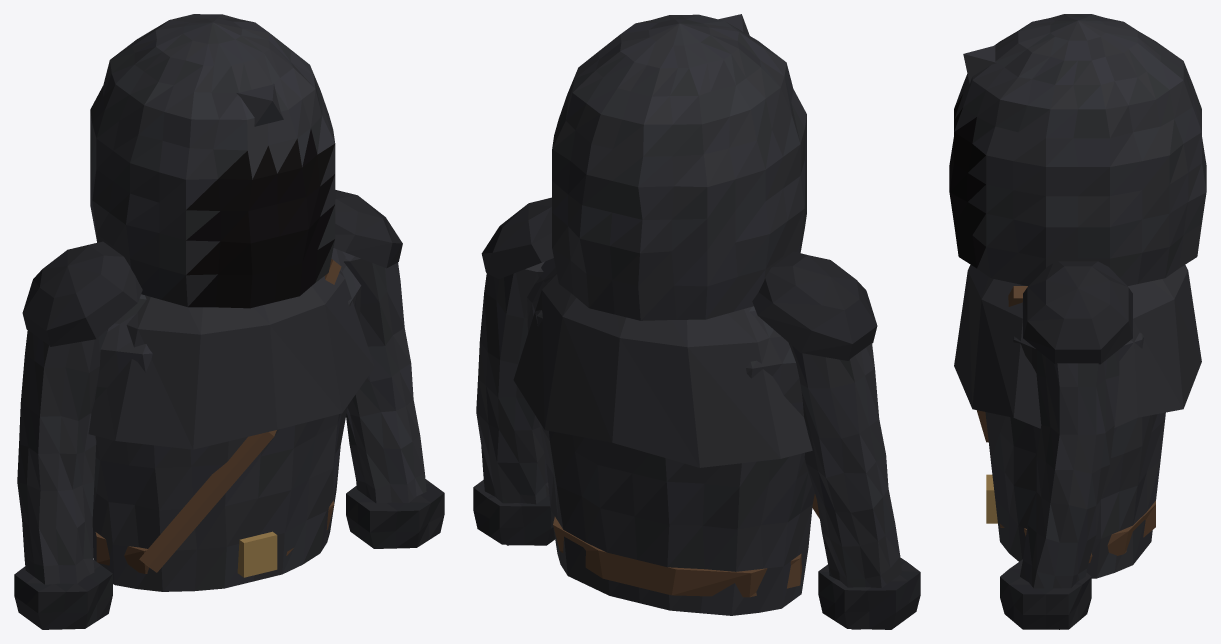
Rendered from B07_4_nightstalker_ranger_tunic.obj.
The picture shows the model from 3 angles, left to right: view 1: azimuth 30°, elevation 25°; view 2: azimuth 150°, elevation 25°; view 3: azimuth 270°, elevation 25°; orthographic projection. The views are drawn at different scales.
Visible parts, largest first — view 1: B07_4_nightstalker_ranger_tunic; view 2: B07_4_nightstalker_ranger_tunic; view 3: B07_4_nightstalker_ranger_tunic.
Boxes of the visible parts, bbox=[...] form: B07_4_nightstalker_ranger_tunic: bbox=[14, 14, 444, 629]; B07_4_nightstalker_ranger_tunic: bbox=[473, 14, 920, 629]; B07_4_nightstalker_ranger_tunic: bbox=[949, 14, 1206, 629].
Size of the model in its own units: 98 by 125 by 56.
